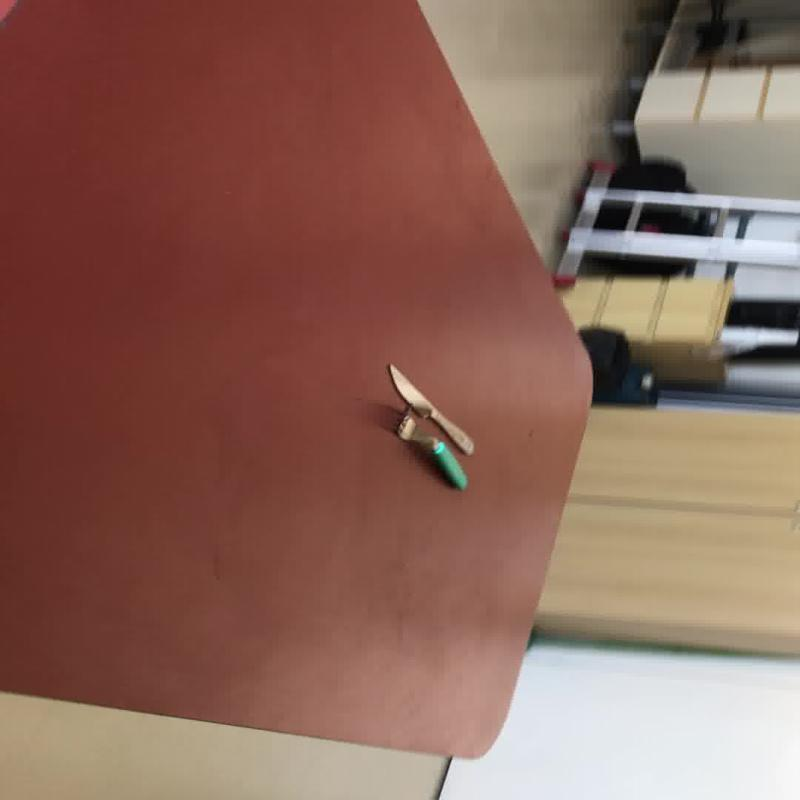knife: (385, 362, 474, 456), (392, 404, 466, 489)
